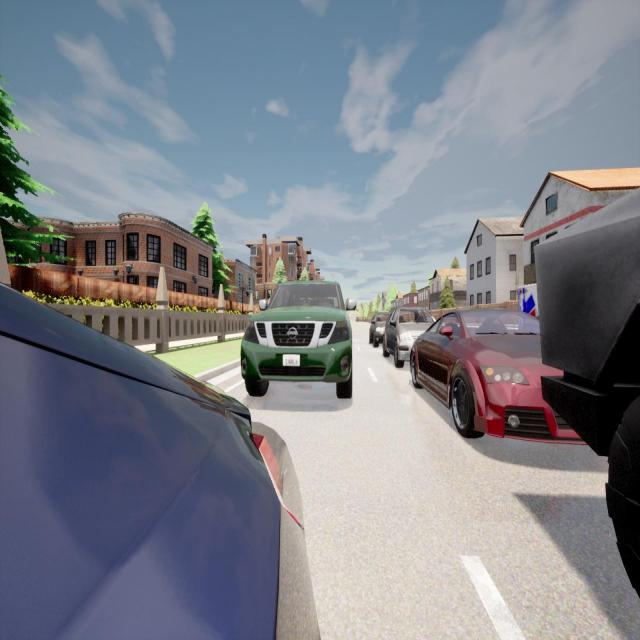Vehicle: (0, 287, 321, 640), (533, 185, 640, 598), (411, 310, 586, 445), (241, 281, 354, 400), (383, 306, 440, 367), (516, 285, 540, 320), (370, 312, 391, 349)
